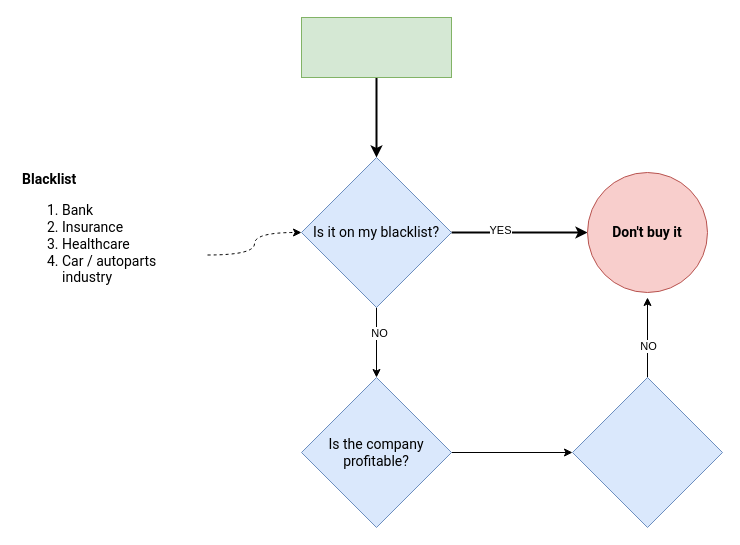
The diagram is 740 pixels wide and 545 high, and some of its shapes have lost their labels. Each missing label, with the centre of its shape:
Great, i have found a nice stock: point 376,47
Is it likely to be profitable anytime soon?: point 647,452
